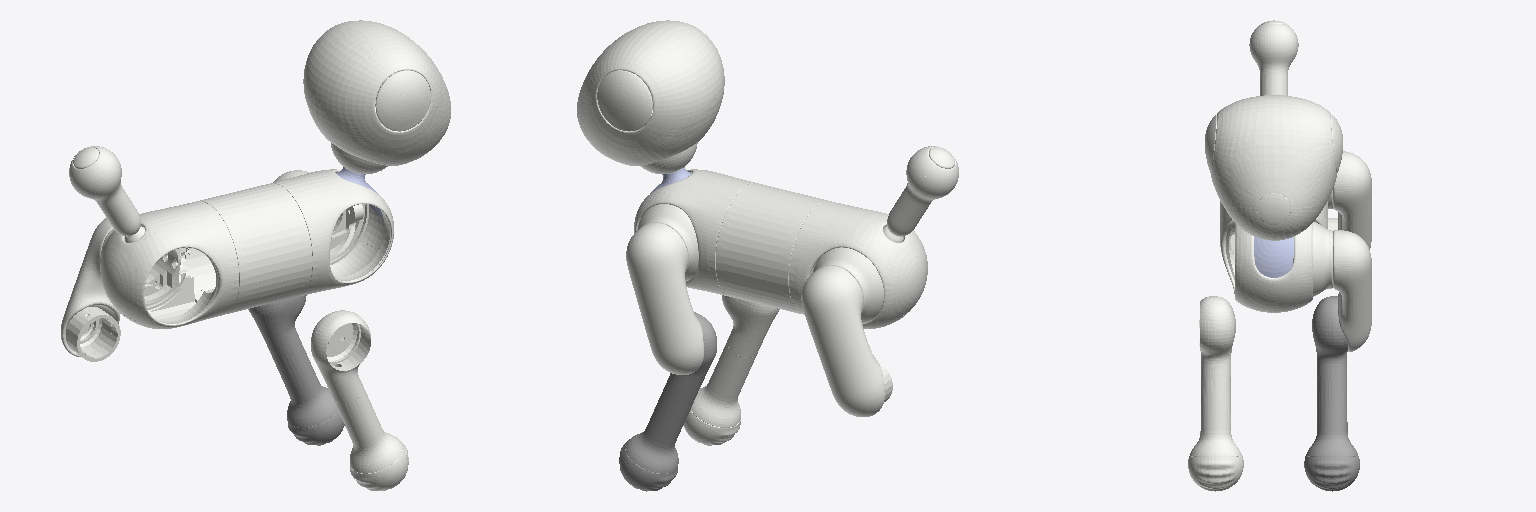
The robot description file, URDF, robot "11":
<?xml version="1.0" encoding="utf-8"?>
<!-- This URDF was automatically created by SolidWorks to URDF Exporter! Originally created by Stephen Brawner (brawner@gmail.com) 
     Commit Version: 1.6.0-4-g7f85cfe  Build Version: 1.6.7995.38578
     For more information, please see http://wiki.ros.org/sw_urdf_exporter -->
<robot
  name="11">
  <link
    name="origin">
    <inertial>
      <origin
        xyz="-0.0038205725995871 1.84813483924553E-07 0.00203673261047633"
        rpy="0 0 0" />
      <mass
        value="0.292328945977529" />
      <inertia
        ixx="0.000370577319304514"
        ixy="-5.39124872961443E-10"
        ixz="-2.48417840939183E-06"
        iyy="0.000369065312576164"
        iyz="-4.74581958190522E-10"
        izz="0.000462980423990826" />
    </inertial>
    <visual>
      <origin
        xyz="0 0 0"
        rpy="0 0 0" />
      <geometry>
        <mesh
          filename="../meshes/origin.STL" />
      </geometry>
      <material
        name="">
        <color
          rgba="0.964705882352941 0.964705882352941 0.952941176470588 1" />
      </material>
    </visual>
    <collision>
      <origin
        xyz="0 0 0"
        rpy="0 0 0" />
      <geometry>
        <mesh
          filename="../meshes/origin.STL" />
      </geometry>
    </collision>
  </link>
  <link
    name="fl_shoulder_yaw">
    <inertial>
      <origin
        xyz="-0.0147805081643969 0.0028233081498483 7.03383451706313E-06"
        rpy="0 0 0" />
      <mass
        value="0.0157498725221692" />
      <inertia
        ixx="4.63017831887055E-06"
        ixy="-3.4726577477185E-09"
        ixz="1.96248347845695E-09"
        iyy="3.15395998257287E-06"
        iyz="9.89630364924166E-09"
        izz="2.34458132913424E-06" />
    </inertial>
    <visual>
      <origin
        xyz="0 0 0"
        rpy="0 0 0" />
      <geometry>
        <mesh
          filename="../meshes/fl_shoulder_yaw.STL" />
      </geometry>
      <material
        name="">
        <color
          rgba="0.964705882352941 0.964705882352941 0.952941176470588 1" />
      </material>
    </visual>
    <collision>
      <origin
        xyz="0 0 0"
        rpy="0 0 0" />
      <geometry>
        <mesh
          filename="../meshes/fl_shoulder_yaw.STL" />
      </geometry>
    </collision>
  </link>
  <joint
    name="fl_SY_J"
    type="revolute">
    <origin
      xyz="0.059094 0.022 -1.3167E-05"
      rpy="0 0 0" />
    <parent
      link="origin" />
    <child
      link="fl_shoulder_yaw" />
    <axis
      xyz="-1 0 0" />
    <limit
      lower="-0.42"
      upper="0.42"
      effort="3.0"
      velocity="10.0" />
  </joint>
  <link
    name="fl_shoulder_pitch">
    <inertial>
      <origin
        xyz="-0.00498177422306309 -0.0124579078612625 -0.0176202966166022"
        rpy="0 0 0" />
      <mass
        value="0.162558169582573" />
      <inertia
        ixx="0.000141955652117414"
        ixy="7.17058873242978E-07"
        ixz="-2.73366038222777E-05"
        iyy="0.000182453921146107"
        iyz="2.98284188584343E-06"
        izz="6.04983242287224E-05" />
    </inertial>
    <visual>
      <origin
        xyz="0 0 0"
        rpy="0 0 0" />
      <geometry>
        <mesh
          filename="../meshes/fl_shoulder_pitch.STL" />
      </geometry>
      <material
        name="">
        <color
          rgba="0.964705882352941 0.964705882352941 0.952941176470588 1" />
      </material>
    </visual>
    <collision>
      <origin
        xyz="0 0 0"
        rpy="0 0 0" />
      <geometry>
        <mesh
          filename="../meshes/fl_shoulder_pitch.STL" />
      </geometry>
    </collision>
  </link>
  <joint
    name="fl_SP_J"
    type="revolute">
    <origin
      xyz="0.026925 0.047 0"
      rpy="0 0 0" />
    <parent
      link="fl_shoulder_yaw" />
    <child
      link="fl_shoulder_pitch" />
    <axis
      xyz="0 1 0" />
    <limit
      lower="-1.56"
      upper="1.56"
      effort="3.0"
      velocity="10.0" />
  </joint>
  <link
    name="fl_knee">
    <inertial>
      <origin
        xyz="0.0201575823030078 -0.0288485490717847 -0.0710189669600713"
        rpy="0 0 0" />
      <mass
        value="0.153379186965005" />
      <inertia
        ixx="5.06612508109846E-05"
        ixy="8.55025667771799E-09"
        ixz="5.34910022903188E-06"
        iyy="5.74455865415086E-05"
        iyz="2.58320349994519E-07"
        izz="3.16199821284653E-05" />
    </inertial>
    <visual>
      <origin
        xyz="0 0 0"
        rpy="0 0 0" />
      <geometry>
        <mesh
          filename="../meshes/fl_knee.STL" />
      </geometry>
      <material
        name="">
        <color
          rgba="0.690196078431373 0.690196078431373 0.690196078431373 1" />
      </material>
    </visual>
    <collision>
      <origin
        xyz="0 0 0"
        rpy="0 0 0" />
      <geometry>
        <mesh
          filename="../meshes/fl_knee.STL" />
      </geometry>
    </collision>
  </link>
  <joint
    name="fl_knee"
    type="revolute">
    <origin
      xyz="-0.025494 0.013709 -0.078466"
      rpy="0 0 0" />
    <parent
      link="fl_shoulder_pitch" />
    <child
      link="fl_knee" />
    <axis
      xyz="0 1 0" />
    <limit
      lower="-1.56"
      upper="1.56"
      effort="3.0"
      velocity="10.0" />
  </joint>
  <link
    name="tail_pitch">
    <inertial>
      <origin
        xyz="-0.000525322683118917 2.16840434497101E-19 1.38777878078145E-17"
        rpy="0 0 0" />
      <mass value="0.005" />
      <inertia
        ixx="2.0E-07"
        ixy="0"
        ixz="0"
        iyy="2.0E-07"
        iyz="0"
        izz="2.0E-07" />
    </inertial>
    <visual>
      <origin
        xyz="0 0 0"
        rpy="0 0 0" />
      <geometry>
        <mesh
          filename="../meshes/tail_pitch.STL" />
      </geometry>
      <material
        name="">
        <color
          rgba="0.792156862745098 0.819607843137255 0.933333333333333 1" />
      </material>
    </visual>
    <collision>
      <origin
        xyz="0 0 0"
        rpy="0 0 0" />
      <geometry>
        <mesh
          filename="../meshes/tail_pitch.STL" />
      </geometry>
    </collision>
  </link>
  <joint
    name="tail_pitch"
    type="revolute">
    <origin
      xyz="-0.107621297365426 0 0.0350980226072767"
      rpy="0 -0.523305470133414 0" />
    <parent
      link="origin" />
    <child
      link="tail_pitch" />
    <axis
      xyz="0 -1 0" />
    <limit
      lower="-0.6"
      upper="0.6"
      effort="1.5"
      velocity="8.0" />
  </joint>
  <link
    name="tail_yaw">
    <inertial>
      <origin
        xyz="-1.78289489192879E-05 2.33082534789814E-07 0.0646037764785091"
        rpy="0 0 0" />
      <mass
        value="0.0714519832068698" />
      <inertia
        ixx="4.07850247513831E-05"
        ixy="-1.01289076471194E-12"
        ixz="-8.32119766925144E-09"
        iyy="4.0775119829711E-05"
        iyz="8.92139988268443E-12"
        izz="1.16247776821555E-05" />
    </inertial>
    <visual>
      <origin
        xyz="0 0 0"
        rpy="0 0 0" />
      <geometry>
        <mesh
          filename="../meshes/tail_yaw.STL" />
      </geometry>
      <material
        name="">
        <color
          rgba="0.964705882352941 0.964705882352941 0.952941176470588 1" />
      </material>
    </visual>
    <collision>
      <origin
        xyz="0 0 0"
        rpy="0 0 0" />
      <geometry>
        <mesh
          filename="../meshes/tail_yaw.STL" />
      </geometry>
    </collision>
  </link>
  <joint
    name="tail_yaw"
    type="revolute">
    <origin
      xyz="0 0 0"
      rpy="0 0 0" />
    <parent
      link="tail_pitch" />
    <child
      link="tail_yaw" />
    <axis
      xyz="-1 0 0" />
    <limit
      lower="-0.6"
      upper="0.6"
      effort="1.5"
      velocity="8.0" />
  </joint>
  <link
    name="bl_shoulder_yaw">
    <inertial>
      <origin
        xyz="0.0155275480122439 0.00323504134922284 0.00033777353636821"
        rpy="0 0 0" />
      <mass
        value="0.0142579070173631" />
      <inertia
        ixx="4.23236346349181E-06"
        ixy="3.29058593194247E-09"
        ixz="2.25733293838427E-09"
        iyy="2.94221960484006E-06"
        iyz="6.05267846646983E-08"
        izz="2.14170250631671E-06" />
    </inertial>
    <visual>
      <origin
        xyz="0 0 0"
        rpy="0 0 0" />
      <geometry>
        <mesh
          filename="../meshes/bl_shoulder_yaw.STL" />
      </geometry>
      <material
        name="">
        <color
          rgba="0.964705882352941 0.964705882352941 0.952941176470588 1" />
      </material>
    </visual>
    <collision>
      <origin
        xyz="0 0 0"
        rpy="0 0 0" />
      <geometry>
        <mesh
          filename="../meshes/bl_shoulder_yaw.STL" />
      </geometry>
    </collision>
  </link>
  <joint
    name="bl_SY_J"
    type="revolute">
    <origin
      xyz="-0.059009 0.022 -1.3167E-05"
      rpy="0 0 0" />
    <parent
      link="origin" />
    <child
      link="bl_shoulder_yaw" />
    <axis
      xyz="-1 0 0" />
    <limit
      lower="-0.42"
      upper="0.42"
      effort="3.0"
      velocity="10.0" />
  </joint>
  <link
    name="bl_shoulder_pitch">
    <inertial>
      <origin
        xyz="-0.00763934958495419 -0.0117826390345597 -0.0177676492392089"
        rpy="0 0 0" />
      <mass
        value="0.160607477594294" />
      <inertia
        ixx="0.000137806944238674"
        ixy="1.29765587400996E-06"
        ixz="-3.2360773604743E-05"
        iyy="0.00018255023412186"
        iyz="2.91238694565855E-06"
        izz="6.46997188969962E-05" />
    </inertial>
    <visual>
      <origin
        xyz="0 0 0"
        rpy="0 0 0" />
      <geometry>
        <mesh
          filename="../meshes/bl_shoulder_pitch.STL" />
      </geometry>
      <material
        name="">
        <color
          rgba="0.964705882352941 0.964705882352941 0.952941176470588 1" />
      </material>
    </visual>
    <collision>
      <origin
        xyz="0 0 0"
        rpy="0 0 0" />
      <geometry>
        <mesh
          filename="../meshes/bl_shoulder_pitch.STL" />
      </geometry>
    </collision>
  </link>
  <joint
    name="bl_SP_J"
    type="revolute">
    <origin
      xyz="-0.026963 0.047003 -9.0894E-05"
      rpy="0 0 0" />
    <parent
      link="bl_shoulder_yaw" />
    <child
      link="bl_shoulder_pitch" />
    <axis
      xyz="0 1 0" />
    <limit
      lower="-1.57"
      upper="1.57"
      effort="3.0"
      velocity="10.0" />
  </joint>
  <link
    name="bl_knee">
    <inertial>
      <origin
        xyz="0.0180635596885324 -0.0299807196557518 -0.0858807864890013"
        rpy="0 0 0" />
      <mass
        value="0.127297417730418" />
      <inertia
        ixx="4.88521449443026E-05"
        ixy="1.44142417410572E-08"
        ixz="4.115213664477E-06"
        iyy="5.35345908497393E-05"
        iyz="2.44410747936264E-07"
        izz="2.90170792036732E-05" />
    </inertial>
    <visual>
      <origin
        xyz="0 0 0"
        rpy="0 0 0" />
      <geometry>
        <mesh
          filename="../meshes/bl_knee.STL" />
      </geometry>
      <material
        name="">
        <color
          rgba="0.964705882352941 0.964705882352941 0.952941176470588 1" />
      </material>
    </visual>
    <collision>
      <origin
        xyz="0 0 0"
        rpy="0 0 0" />
      <geometry>
        <mesh
          filename="../meshes/bl_knee.STL" />
      </geometry>
    </collision>
  </link>
  <joint
    name="bl_knee"
    type="revolute">
    <origin
      xyz="-0.030905 0.013709 -0.076493"
      rpy="0 0 0" />
    <parent
      link="bl_shoulder_pitch" />
    <child
      link="bl_knee" />
    <axis
      xyz="0 1 0" />
    <limit
      lower="-1.57"
      upper="1.57"
      effort="3.0"
      velocity="10.0" />
  </joint>
  <link
    name="fr_shoulder_yaw">
    <inertial>
      <origin
        xyz="-0.0146540101182524 -0.00266256792548733 7.24633130371154E-05"
        rpy="0 0 0" />
      <mass
        value="0.0160189843347469" />
      <inertia
        ixx="4.63412464509911E-06"
        ixy="3.47994670911508E-09"
        ixz="1.96272243536605E-09"
        iyy="3.15623731445485E-06"
        iyz="-9.9106064006527E-09"
        izz="2.34685260300606E-06" />
    </inertial>
    <visual>
      <origin
        xyz="0 0 0"
        rpy="0 0 0" />
      <geometry>
        <mesh
          filename="../meshes/fr_shoulder_yaw.STL" />
      </geometry>
      <material
        name="">
        <color
          rgba="0.792156862745098 0.819607843137255 0.933333333333333 1" />
      </material>
    </visual>
    <collision>
      <origin
        xyz="0 0 0"
        rpy="0 0 0" />
      <geometry>
        <mesh
          filename="../meshes/fr_shoulder_yaw.STL" />
      </geometry>
    </collision>
  </link>
  <joint
    name="fr_SY_J"
    type="revolute">
    <origin
      xyz="0.059094 -0.022 -1.3167E-05"
      rpy="0 0 0" />
    <parent
      link="origin" />
    <child
      link="fr_shoulder_yaw" />
    <axis
      xyz="1 0 0" />
    <limit
      lower="-0.42"
      upper="0.42"
      effort="3.0"
      velocity="10.0" />
  </joint>
  <link
    name="fr_shoulder_pitch">
    <inertial>
      <origin
        xyz="-0.00522256674202497 0.0121135631154463 -0.0175465355849405"
        rpy="0 0 0" />
      <mass
        value="0.16249749714434" />
      <inertia
        ixx="0.000141853448878475"
        ixy="-8.1228606493776E-07"
        ixz="-2.78500275834642E-05"
        iyy="0.000183026802503734"
        iyz="-2.95104972502124E-06"
        izz="6.11506456372207E-05" />
    </inertial>
    <visual>
      <origin
        xyz="0 0 0"
        rpy="0 0 0" />
      <geometry>
        <mesh
          filename="../meshes/fr_shoulder_pitch.STL" />
      </geometry>
      <material
        name="">
        <color
          rgba="0.8 0.807843137254902 0.8 1" />
      </material>
    </visual>
    <collision>
      <origin
        xyz="0 0 0"
        rpy="0 0 0" />
      <geometry>
        <mesh
          filename="../meshes/fr_shoulder_pitch.STL" />
      </geometry>
    </collision>
  </link>
  <joint
    name="fr_SP_J"
    type="revolute">
    <origin
      xyz="0.026925 -0.047003 0"
      rpy="0 0 0" />
    <parent
      link="fr_shoulder_yaw" />
    <child
      link="fr_shoulder_pitch" />
    <axis
      xyz="0 1 0" />
    <limit
      lower="-1.56"
      upper="1.56"
      effort="3.0"
      velocity="10.0" />
  </joint>
  <link
    name="fr_knee">
    <inertial>
      <origin
        xyz="0.0201682437062529 0.0288455089568443 -0.0710257914603711"
        rpy="0 0 0" />
      <mass
        value="0.153379543192608" />
      <inertia
        ixx="5.06795927132436E-05"
        ixy="-5.28953979999076E-09"
        ixz="5.36829409828078E-06"
        iyy="5.74454421910386E-05"
        iyz="-2.58569624258149E-07"
        izz="3.1601553869093E-05" />
    </inertial>
    <visual>
      <origin
        xyz="0 0 0"
        rpy="0 0 0" />
      <geometry>
        <mesh
          filename="../meshes/fr_knee.STL" />
      </geometry>
      <material
        name="">
        <color
          rgba="0.964705882352941 0.964705882352941 0.952941176470588 1" />
      </material>
    </visual>
    <collision>
      <origin
        xyz="0 0 0"
        rpy="0 0 0" />
      <geometry>
        <mesh
          filename="../meshes/fr_knee.STL" />
      </geometry>
    </collision>
  </link>
  <joint
    name="fr_knee"
    type="revolute">
    <origin
      xyz="-0.025476 -0.013709 -0.078468"
      rpy="0 0 0" />
    <parent
      link="fr_shoulder_pitch" />
    <child
      link="fr_knee" />
    <axis
      xyz="0 1 0" />
    <limit
      lower="-1.56"
      upper="1.56"
      effort="3.0"
      velocity="10.0" />
  </joint>
  <link
    name="br_shoulder_yaw">
    <inertial>
      <origin
        xyz="0.0157204912146604 -0.00319221100882467 0.000269961254533983"
        rpy="0 0 0" />
      <mass
        value="0.0139501405657217" />
      <inertia
        ixx="4.22823488137916E-06"
        ixy="-3.29377397220007E-09"
        ixz="2.25813610026359E-09"
        iyy="2.9398372222071E-06"
        iyz="-6.05152454961652E-08"
        izz="2.13930930111196E-06" />
    </inertial>
    <visual>
      <origin
        xyz="0 0 0"
        rpy="0 0 0" />
      <geometry>
        <mesh
          filename="../meshes/br_shoulder_yaw.STL" />
      </geometry>
      <material
        name="">
        <color
          rgba="0.792156862745098 0.819607843137255 0.933333333333333 1" />
      </material>
    </visual>
    <collision>
      <origin
        xyz="0 0 0"
        rpy="0 0 0" />
      <geometry>
        <mesh
          filename="../meshes/br_shoulder_yaw.STL" />
      </geometry>
    </collision>
  </link>
  <joint
    name="br_SY_J"
    type="revolute">
    <origin
      xyz="-0.059009 -0.021984 -1.3172E-05"
      rpy="0 0 0" />
    <parent
      link="origin" />
    <child
      link="br_shoulder_yaw" />
    <axis
      xyz="1 0 0" />
    <limit
      lower="-0.42"
      upper="0.42"
      effort="3.0"
      velocity="10.0" />
  </joint>
  <link
    name="br_shoulder_pitch">
    <inertial>
      <origin
        xyz="-0.00769815583200238 0.0119274905657244 -0.0172311444987619"
        rpy="0 0 0" />
      <mass
        value="0.161157362607608" />
      <inertia
        ixx="0.000137366883792079"
        ixy="-1.39048094765077E-06"
        ixz="-3.28319593037571E-05"
        iyy="0.000182588667341798"
        iyz="-2.87415619626518E-06"
        izz="6.51851072624998E-05" />
    </inertial>
    <visual>
      <origin
        xyz="0 0 0"
        rpy="0 0 0" />
      <geometry>
        <mesh
          filename="../meshes/br_shoulder_pitch.STL" />
      </geometry>
      <material
        name="">
        <color
          rgba="0.627450980392157 0.627450980392157 0.627450980392157 1" />
      </material>
    </visual>
    <collision>
      <origin
        xyz="0 0 0"
        rpy="0 0 0" />
      <geometry>
        <mesh
          filename="../meshes/br_shoulder_pitch.STL" />
      </geometry>
    </collision>
  </link>
  <joint
    name="br_SP_J"
    type="revolute">
    <origin
      xyz="-0.026925 -0.047019 0"
      rpy="0 0 0" />
    <parent
      link="br_shoulder_yaw" />
    <child
      link="br_shoulder_pitch" />
    <axis
      xyz="0 1 0" />
    <limit
      lower="-1.56"
      upper="1.56"
      effort="3.0"
      velocity="10.0" />
  </joint>
  <link
    name="br_knee">
    <inertial>
      <origin
        xyz="0.0152120944228985 0.0288435872005023 -0.0723607547532772"
        rpy="0 0 0" />
      <mass
        value="0.152930856947299" />
      <inertia
        ixx="5.08849999734717E-05"
        ixy="-1.3037587309536E-08"
        ixz="4.15982509251385E-06"
        iyy="5.69252669933578E-05"
        iyz="-2.32548656418166E-07"
        izz="3.08591635578139E-05" />
    </inertial>
    <visual>
      <origin
        xyz="0 0 0"
        rpy="0 0 0" />
      <geometry>
        <mesh
          filename="../meshes/br_knee.STL" />
      </geometry>
      <material
        name="">
        <color
          rgba="0.290196078431373 0.290196078431373 0.290196078431373 1" />
      </material>
    </visual>
    <collision>
      <origin
        xyz="0 0 0"
        rpy="0 0 0" />
      <geometry>
        <mesh
          filename="../meshes/br_knee.STL" />
      </geometry>
    </collision>
  </link>
  <joint
    name="br_knee"
    type="revolute">
    <origin
      xyz="-0.030905 -0.013709 -0.076493"
      rpy="0 0 0" />
    <parent
      link="br_shoulder_pitch" />
    <child
      link="br_knee" />
    <axis
      xyz="0 1 0" />
    <limit
      lower="-1.56"
      upper="1.56"
      effort="3.0"
      velocity="10.0" />
  </joint>
  <link
    name="head_pitch">
    <inertial>
      <origin
        xyz="0.0148937208237399 -0.000311654054099721 0.0369003932743689"
        rpy="0 0 0" />
      <mass
        value="0.0103442642644936" />
      <inertia
        ixx="2.4607258219042E-06"
        ixy="-2.0029685433315E-09"
        ixz="1.47479741823876E-06"
        iyy="6.12734155609907E-06"
        iyz="-1.64749723216187E-08"
        izz="5.46377557219485E-06" />
    </inertial>
    <visual>
      <origin
        xyz="0 0 0"
        rpy="0 0 0" />
      <geometry>
        <mesh
          filename="../meshes/head_pitch.STL" />
      </geometry>
      <material
        name="">
        <color
          rgba="0.792156862745098 0.819607843137255 0.933333333333333 1" />
      </material>
    </visual>
    <collision>
      <origin
        xyz="0 0 0"
        rpy="0 0 0" />
      <geometry>
        <mesh
          filename="../meshes/head_pitch.STL" />
      </geometry>
    </collision>
  </link>
  <joint
    name="head_pitch_joint"
    type="revolute">
    <origin
      xyz="0.086084 0 -1.3167E-05"
      rpy="0 0 0" />
    <parent
      link="origin" />
    <child
      link="head_pitch" />
    <axis
      xyz="0 -1 0" />
    <limit
      lower="-0.65"
      upper="0.4"
      effort="1.5"
      velocity="8.0" />
  </joint>
  <link
    name="head_yaw">
    <inertial>
      <origin
        xyz="0 -9.40395480654498E-23 0"
        rpy="0 0 0" />
      <mass value="0.005" />
      <inertia
        ixx="2.0E-07"
        ixy="0"
        ixz="0"
        iyy="2.0E-07"
        iyz="0"
        izz="2.0E-07" />
    </inertial>
    <visual>
      <origin
        xyz="0 0 0"
        rpy="0 0 0" />
      <geometry>
        <mesh
          filename="../meshes/head_yaw.STL" />
      </geometry>
      <material
        name="">
        <color
          rgba="0.792156862745098 0.819607843137255 0.933333333333333 1" />
      </material>
    </visual>
    <collision>
      <origin
        xyz="0 0 0"
        rpy="0 0 0" />
      <geometry>
        <mesh
          filename="../meshes/head_yaw.STL" />
      </geometry>
    </collision>
  </link>
  <joint
    name="head_yaw"
    type="revolute">
    <origin
      xyz="0.019795 0 0.049727"
      rpy="0 0.37884 0" />
    <parent
      link="head_pitch" />
    <child
      link="head_yaw" />
    <axis
      xyz="-1 0 0" />
    <limit
      lower="-0.6"
      upper="0.6"
      effort="1.5"
      velocity="8.0" />
  </joint>
  <link
    name="head_roll">
    <inertial>
      <origin
        xyz="-0.00529014550280724 0.000117906969880876 0.0712087903633159"
        rpy="0 0 0" />
      <mass
        value="0.794859465362157" />
      <inertia
        ixx="0.000980525399242489"
        ixy="-1.35887094558345E-06"
        ixz="3.04046935240542E-05"
        iyy="0.00115183995476142"
        iyz="-9.95841904631779E-07"
        izz="0.00118878989258396" />
    </inertial>
    <visual>
      <origin
        xyz="0 0 0"
        rpy="0 0 0" />
      <geometry>
        <mesh
          filename="../meshes/head_roll.STL" />
      </geometry>
      <material
        name="">
        <color
          rgba="0.964705882352941 0.964705882352941 0.952941176470588 1" />
      </material>
    </visual>
    <collision>
      <origin
        xyz="0 0 0"
        rpy="0 0 0" />
      <geometry>
        <mesh
          filename="../meshes/head_roll.STL" />
      </geometry>
    </collision>
  </link>
  <joint
    name="head_roll"
    type="revolute">
    <origin
      xyz="0 0 0"
      rpy="0 0 0" />
    <parent
      link="head_yaw" />
    <child
      link="head_roll" />
    <axis
      xyz="0 0 -1" />
    <limit
      lower="-0.78"
      upper="0.78"
      effort="1.5"
      velocity="8.0" />
  </joint>
</robot>

--- Facts derived from the render (not from the file) ---
The picture shows the robot from 3 angles, left to right: view 1: azimuth 30°, elevation 25°; view 2: azimuth 150°, elevation 25°; view 3: azimuth 270°, elevation 25°; orthographic projection.
Robot: 11 — 18 links, 17 joints (17 revolute); root link origin; default pose: all joints at 0.
Visible links, largest first — view 1: origin, head_roll, fr_knee, bl_shoulder_pitch, fl_knee, tail_yaw, fl_shoulder_pitch; view 2: origin, head_roll, bl_shoulder_pitch, fl_shoulder_pitch, fr_knee, fl_knee, tail_yaw; view 3: head_roll, fr_knee, fl_knee, origin, fl_shoulder_pitch, bl_shoulder_pitch, tail_yaw, head_pitch.
Boxes of the visible links, x1,y1,x2,y2 form: origin: (100, 169, 393, 328); head_roll: (303, 20, 450, 173); fr_knee: (311, 310, 408, 490); bl_shoulder_pitch: (61, 218, 189, 361); fl_knee: (248, 295, 344, 445); tail_yaw: (69, 146, 144, 242); fl_shoulder_pitch: (273, 170, 363, 259); origin: (634, 169, 927, 328); head_roll: (577, 20, 724, 173); bl_shoulder_pitch: (801, 247, 892, 416); fl_shoulder_pitch: (626, 204, 703, 374); fr_knee: (683, 295, 779, 445); fl_knee: (619, 312, 716, 491); tail_yaw: (883, 146, 958, 242); head_roll: (1205, 95, 1342, 240); fr_knee: (1188, 296, 1243, 491); fl_knee: (1304, 296, 1359, 491); origin: (1220, 201, 1327, 312); fl_shoulder_pitch: (1313, 222, 1371, 351); bl_shoulder_pitch: (1328, 151, 1371, 249); tail_yaw: (1249, 20, 1298, 95); head_pitch: (1254, 237, 1293, 277).
Bounding box of the posed robot: 0.365 × 0.1684 × 0.4028 m (x, y, z).
Meshes: 18 distinct files referenced, 9 mesh visuals loaded (9 binary STL); not drawn: 9 (reference not matched to a file when rendering).
